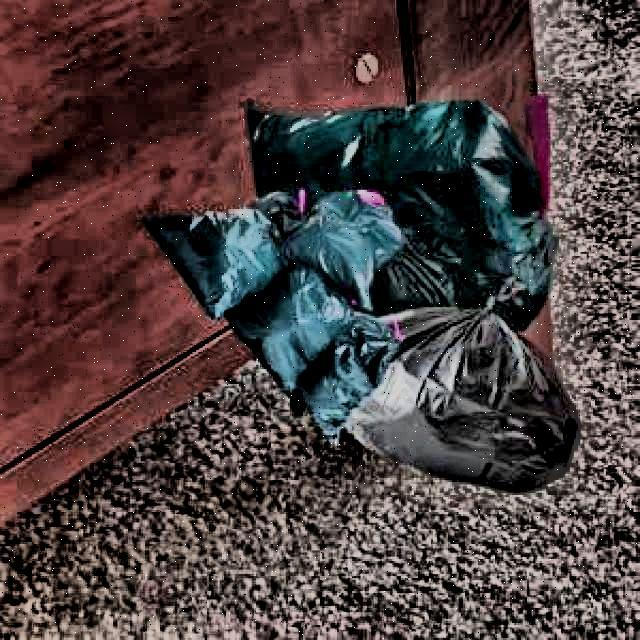Trashbag: (380, 92, 557, 320), (372, 301, 580, 492), (250, 273, 386, 443), (138, 200, 265, 315), (276, 184, 397, 294)
